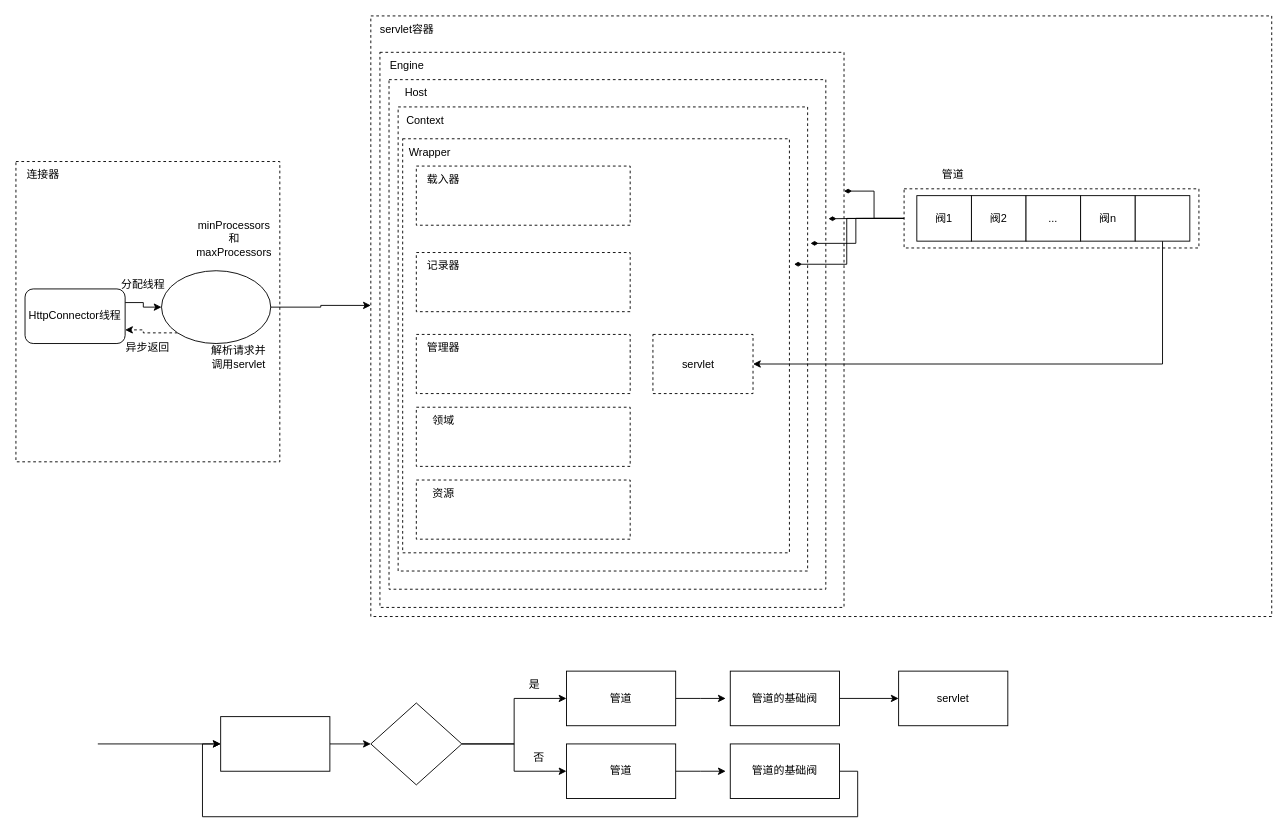
This 1288x840 diagram has some shape labels left out. Here are the shapes that lost their labels. From the top down, the box of each, then its label:
(1134, 195, 1190, 241): 基础阀
(161, 270, 271, 344): HttpProcessor池
(220, 716, 330, 771): 容器
(370, 702, 462, 785): wrapper级容器
